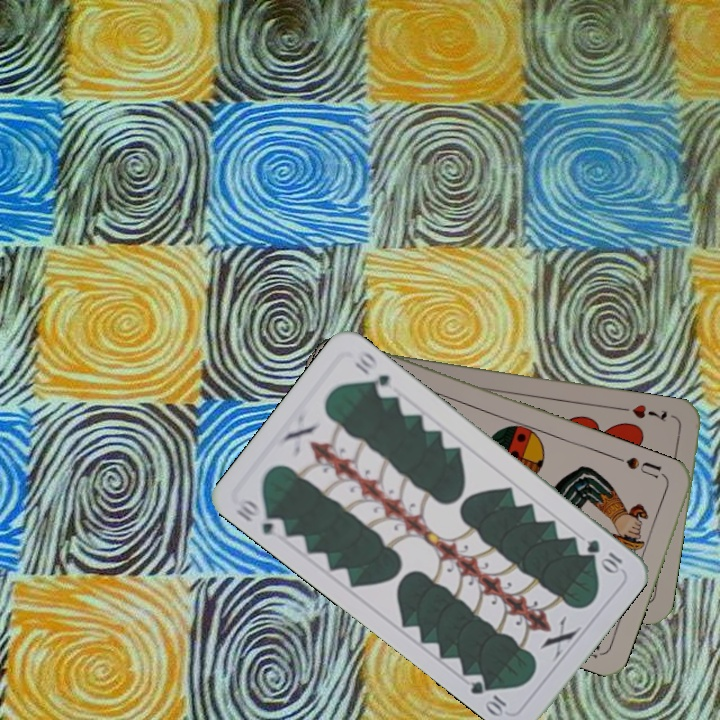G10: (231, 493, 288, 538), (582, 535, 626, 576)
H7: (628, 400, 670, 424)
SU: (611, 452, 668, 481)
